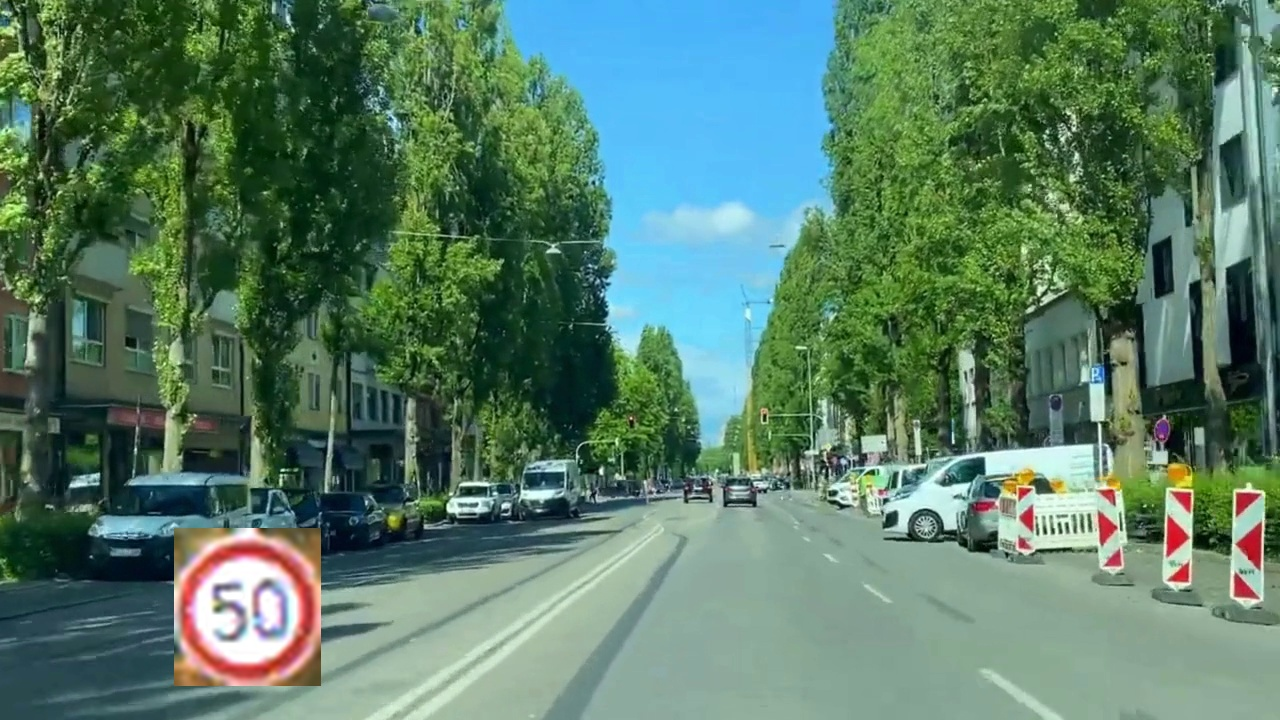Speed 50: (174, 528, 321, 686)
